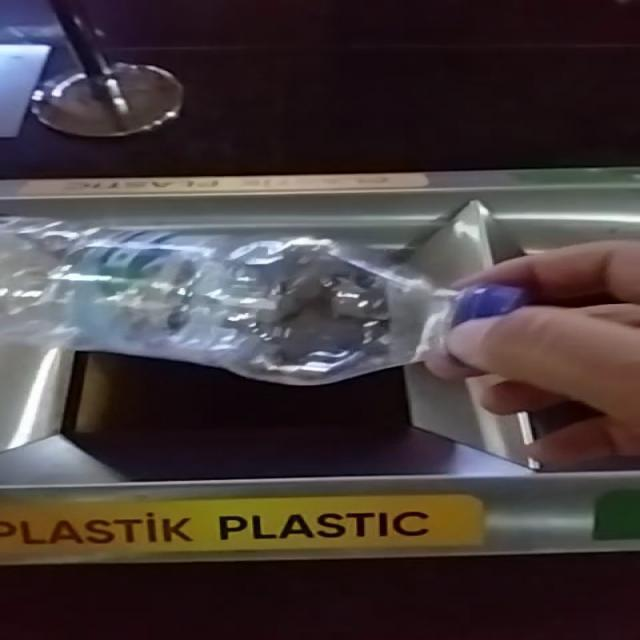Plastic: (1, 219, 457, 385)
